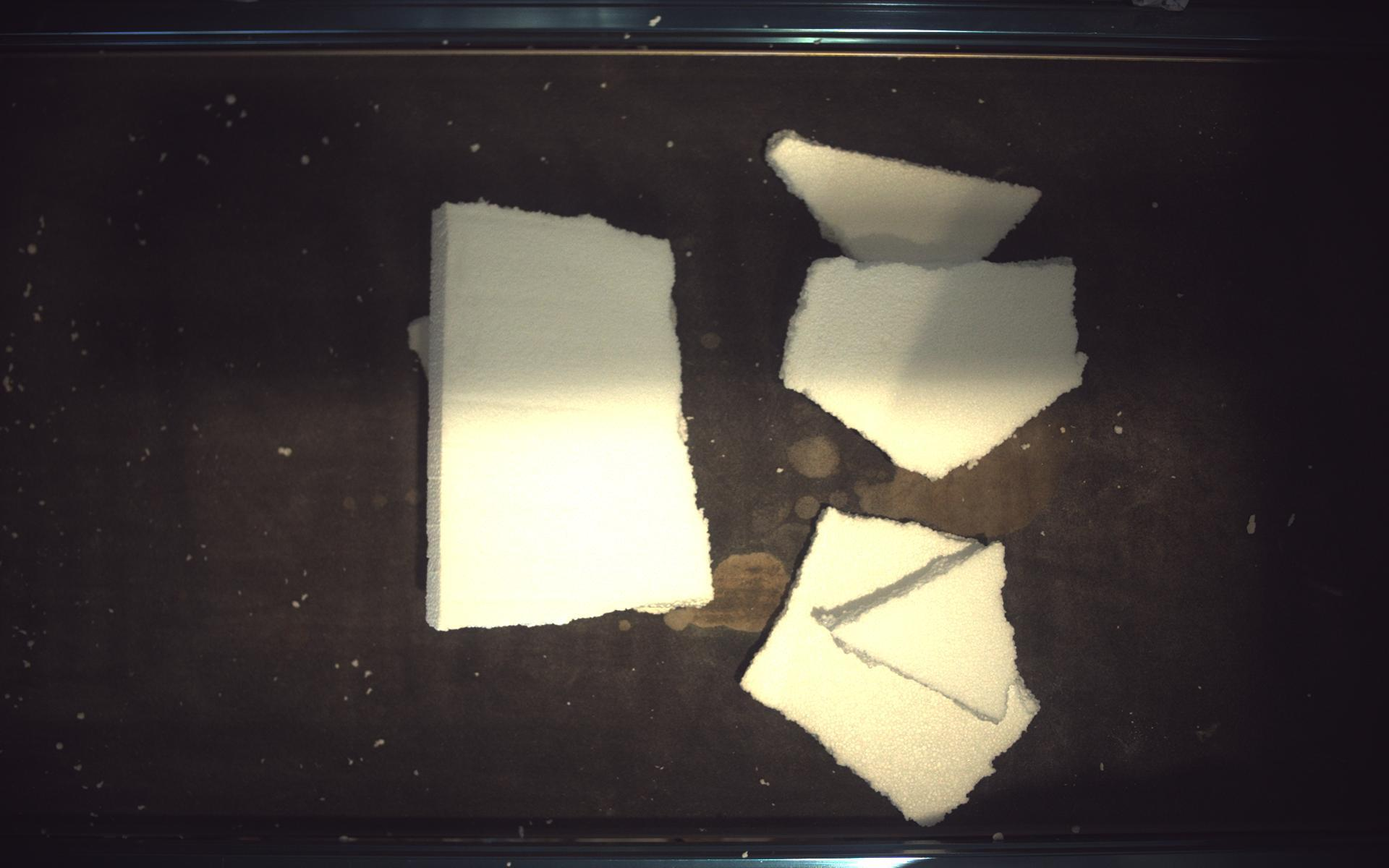foam: (409, 202, 713, 631), (742, 509, 1041, 827), (783, 257, 1089, 479), (813, 542, 1019, 725), (767, 129, 1043, 265)
